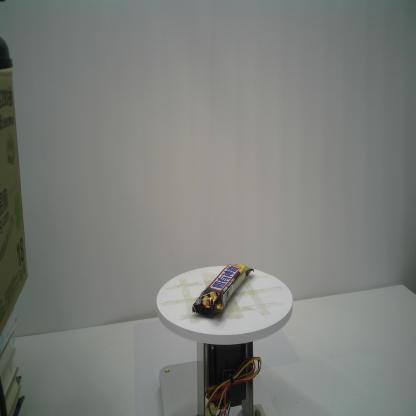Chocolate: (192, 263, 254, 318)
